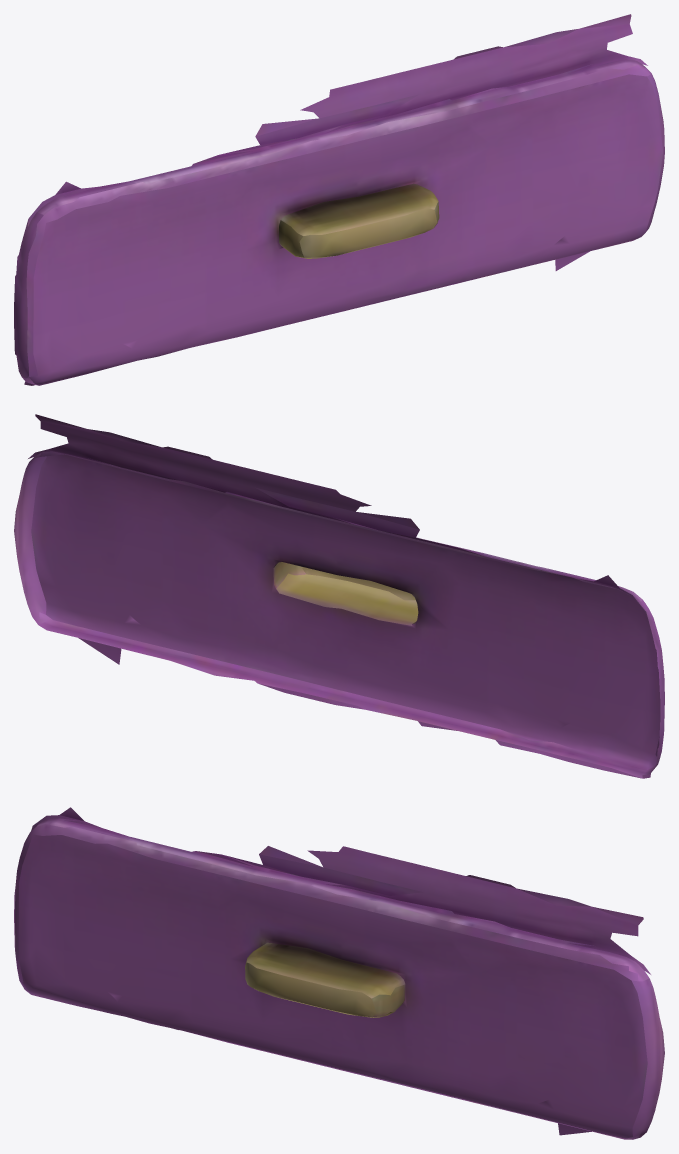
Rendered from bottom_drawer.glb.
The picture shows the model from 3 angles, top to bottom: view 1: azimuth 30°, elevation 25°; view 2: azimuth 150°, elevation 25°; view 3: azimuth 330°, elevation 25°; orthographic projection.
Parts seen in each view (by area): view 1: geometry_0; view 2: geometry_0; view 3: geometry_0.
Part boxes in pixels (box(x1,y1,x2,y2)): geometry_0: box(14, 14, 664, 385); geometry_0: box(14, 414, 664, 778); geometry_0: box(14, 807, 664, 1139).
Bounding box in the file's own units: 0.2216 × 0.0768 × 0.0244.
Materials: 1 (1 with a texture image).
